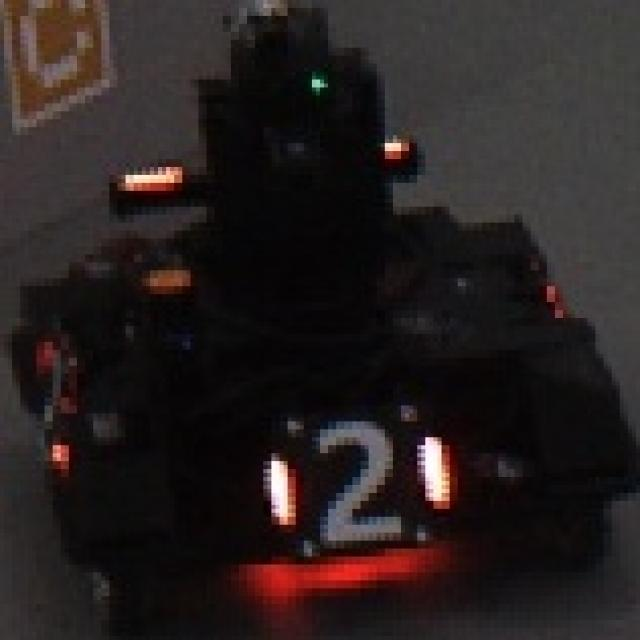R2: (263, 418, 450, 544)
